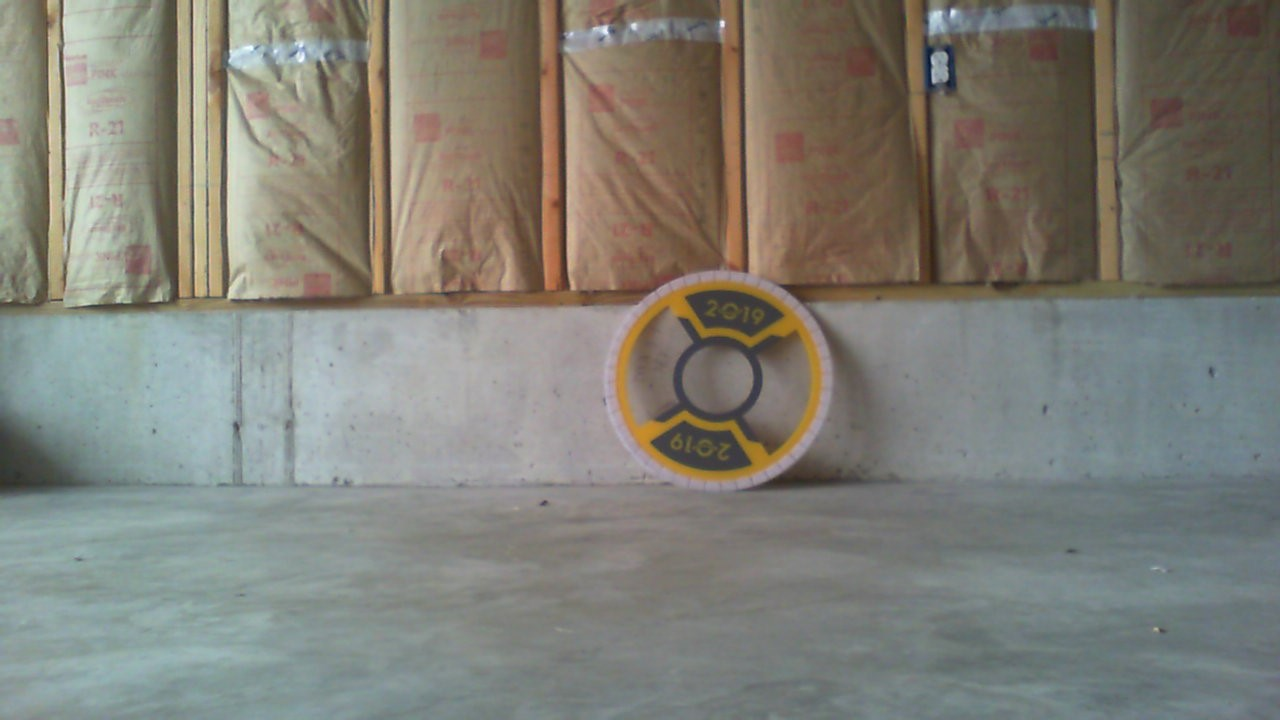Hatch: (601, 269, 833, 491)
